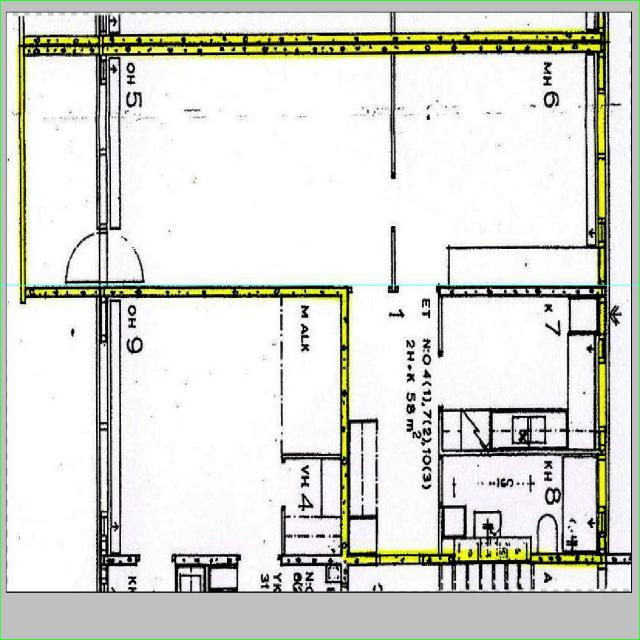door: (96, 233, 146, 281), (61, 233, 110, 281)
